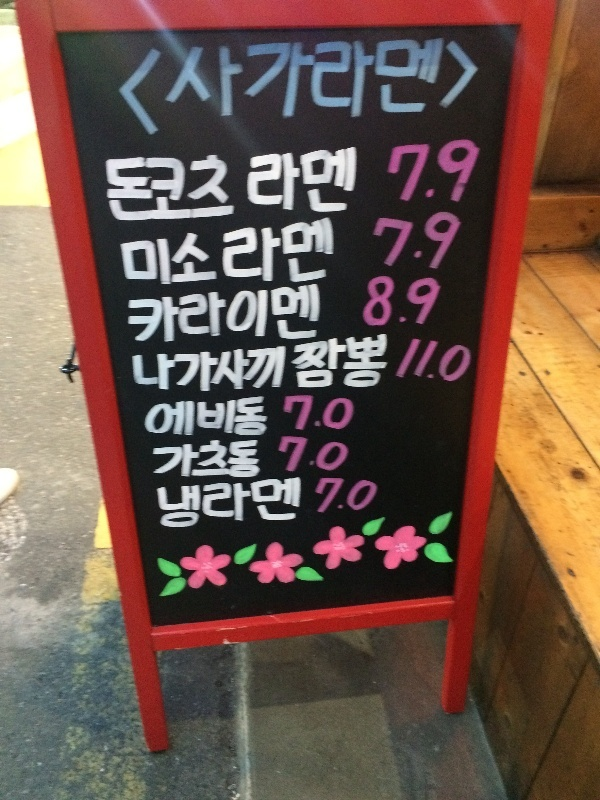text: (113, 35, 128, 144), (129, 35, 144, 144), (145, 35, 160, 144), (161, 35, 176, 144), (177, 35, 192, 144), (193, 35, 208, 144), (209, 35, 224, 144), (225, 35, 240, 144), (241, 35, 256, 144), (257, 35, 272, 144), (273, 35, 288, 144), (289, 35, 304, 144), (305, 35, 320, 144), (321, 35, 336, 144), (337, 35, 352, 144), (353, 35, 368, 144), (369, 35, 384, 144), (385, 35, 400, 144), (401, 35, 416, 144), (417, 35, 432, 144), (433, 35, 448, 144), (449, 35, 464, 144), (465, 35, 480, 144), (113, 151, 128, 227), (129, 151, 144, 227), (145, 151, 160, 227), (161, 151, 176, 227), (177, 151, 192, 227), (193, 151, 208, 227), (209, 151, 224, 227), (401, 136, 416, 210), (417, 136, 432, 210), (433, 136, 448, 210), (449, 136, 464, 210), (465, 136, 480, 210), (225, 216, 240, 288), (241, 216, 256, 288), (257, 216, 272, 288), (273, 216, 288, 288), (289, 216, 304, 288), (305, 216, 320, 288), (257, 144, 272, 216), (273, 144, 288, 216), (289, 144, 304, 216), (305, 144, 320, 216), (321, 144, 336, 216), (337, 144, 352, 216), (305, 330, 320, 394), (321, 330, 336, 394), (337, 330, 352, 394), (353, 330, 368, 394), (369, 330, 384, 394), (129, 281, 144, 344), (145, 281, 160, 344), (161, 281, 176, 344), (177, 281, 192, 344), (193, 281, 208, 344), (209, 281, 224, 344), (225, 281, 240, 344), (241, 281, 256, 344), (257, 281, 272, 344), (273, 281, 288, 344), (289, 281, 304, 344), (305, 281, 320, 344), (321, 216, 334, 288), (129, 228, 144, 290), (145, 228, 160, 290), (161, 228, 176, 290), (177, 228, 192, 290), (193, 228, 208, 290), (385, 211, 400, 273), (401, 211, 416, 273), (417, 211, 432, 273), (433, 211, 448, 273), (449, 211, 464, 273), (161, 473, 176, 534), (177, 473, 192, 534), (193, 473, 208, 534), (209, 473, 224, 534), (225, 473, 240, 534), (241, 473, 256, 534), (257, 473, 272, 534), (273, 473, 288, 534), (289, 473, 304, 534), (305, 473, 320, 534), (321, 473, 336, 534), (337, 473, 352, 534), (353, 473, 368, 534), (225, 151, 237, 227), (290, 330, 304, 394), (369, 272, 384, 330), (385, 272, 400, 330), (401, 272, 416, 330), (417, 272, 432, 330), (369, 473, 382, 534), (417, 334, 432, 386), (433, 334, 448, 386), (449, 334, 464, 386), (145, 343, 160, 394), (161, 343, 176, 394), (177, 343, 192, 394), (193, 343, 208, 394), (209, 343, 224, 394), (225, 343, 240, 394), (241, 343, 256, 394), (257, 343, 272, 394), (433, 272, 446, 330), (273, 343, 287, 394), (161, 436, 176, 482), (177, 436, 192, 482), (193, 436, 208, 482), (209, 436, 224, 482), (225, 436, 240, 482), (241, 436, 256, 482), (145, 394, 160, 439), (161, 394, 176, 439), (177, 394, 192, 439), (193, 394, 208, 439), (209, 394, 224, 439), (225, 394, 240, 439), (241, 394, 256, 439), (391, 136, 400, 210), (131, 343, 144, 394), (289, 434, 304, 478), (305, 434, 320, 478), (321, 434, 336, 478), (247, 144, 256, 216), (209, 228, 219, 290), (337, 434, 351, 478), (104, 151, 112, 227), (289, 394, 304, 433), (305, 394, 320, 433), (321, 394, 336, 433), (337, 394, 352, 433), (353, 144, 361, 216), (119, 228, 128, 290), (257, 394, 269, 439), (465, 334, 475, 386), (376, 211, 384, 273), (278, 434, 288, 478), (481, 136, 486, 210), (152, 436, 160, 482), (385, 330, 390, 394), (155, 473, 160, 534), (411, 334, 416, 386), (257, 436, 262, 482), (221, 216, 224, 288), (284, 394, 288, 433), (353, 394, 357, 433), (126, 281, 128, 344), (465, 211, 467, 273), (481, 35, 482, 144), (321, 281, 322, 344)
